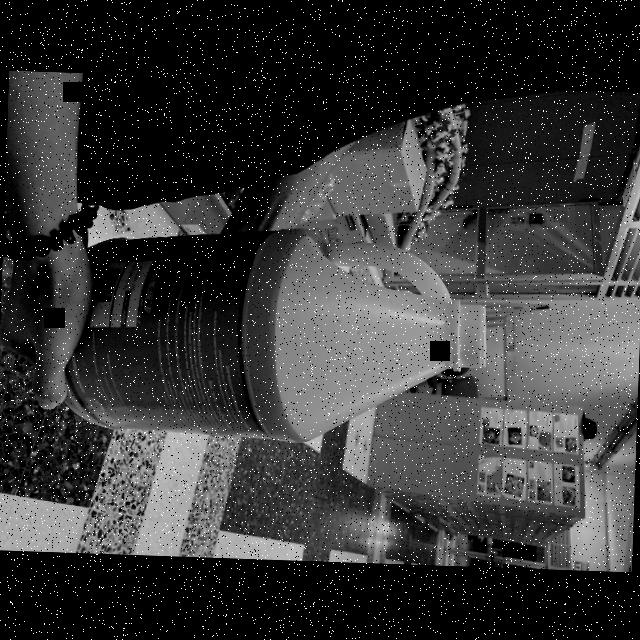chemical_plastic_gallon: (58, 232, 494, 448)
